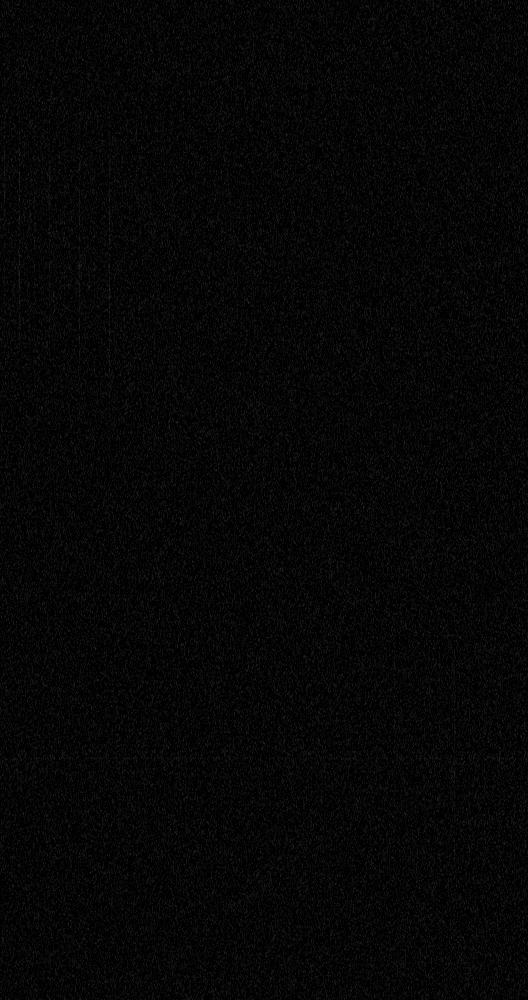signal: (0, 0, 527, 999)
